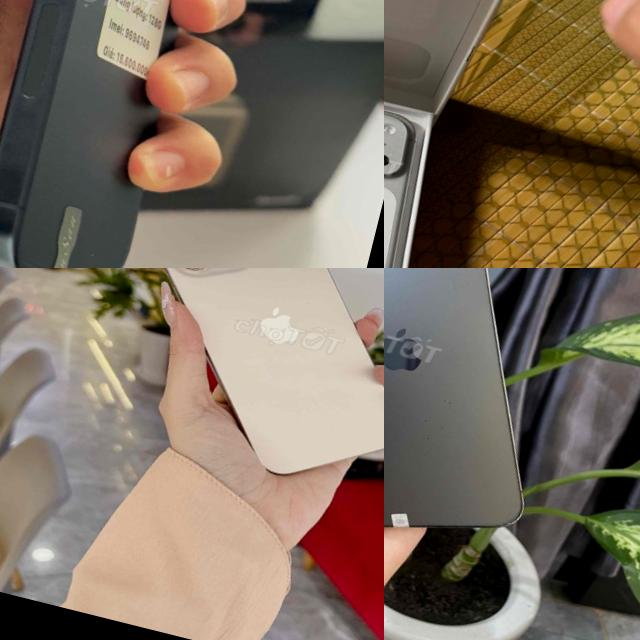gen_12_13: (384, 268, 598, 573)
gen_15: (0, 0, 311, 268)
gen_16: (163, 268, 384, 473)
scratch: (88, 251, 96, 257)
